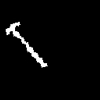half_double_crochet: (6, 22, 46, 66)
